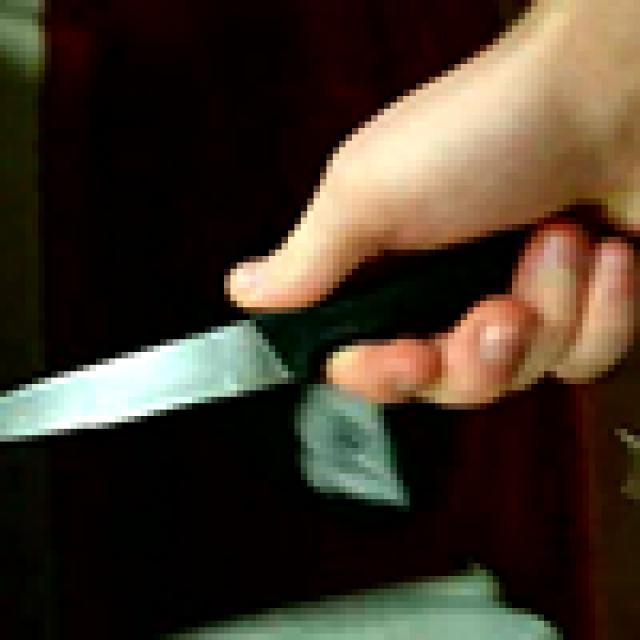Knife: (0, 204, 640, 473)
